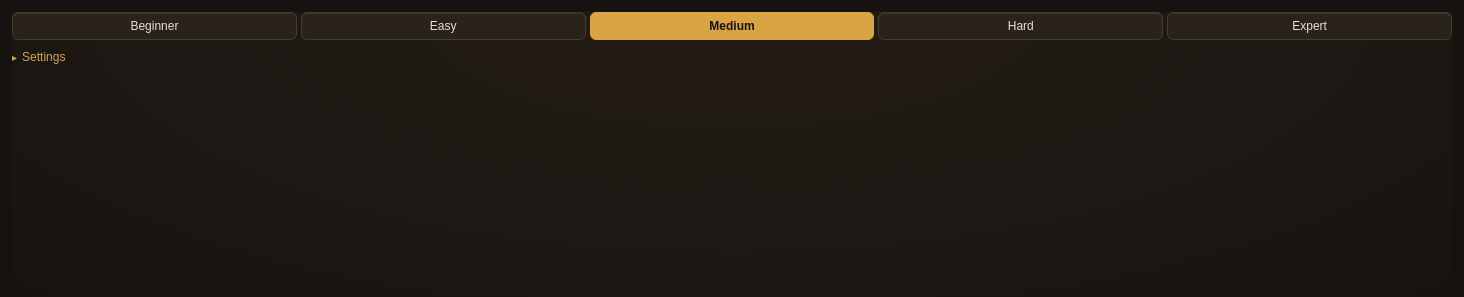
DifficultyControl › snaps the raw slider to a preset when a preset is clicked
Click the button "▸ Settings" at {"x": 39, "y": 57}, box [12,50,65,64]
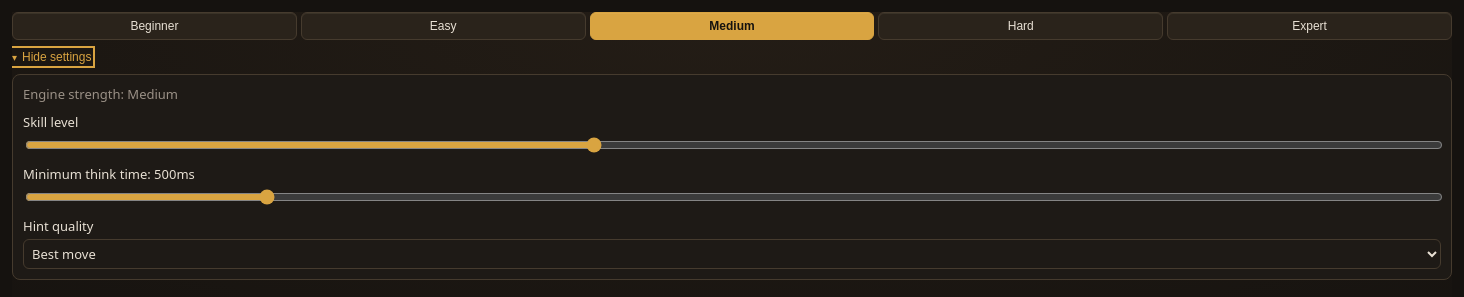
Click the radio button labelled "Hard" at {"x": 1021, "y": 26}, box [878,12,1163,40]
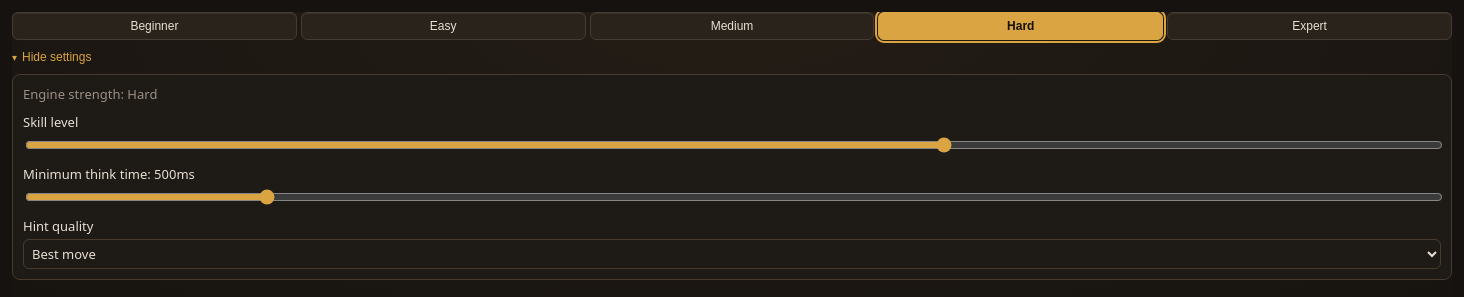
Now the slider labelled "Skill level" holds "13", box [25,137,1443,153]
Now the text "Engine strength: Hard" is shown, box [23,85,157,103]
